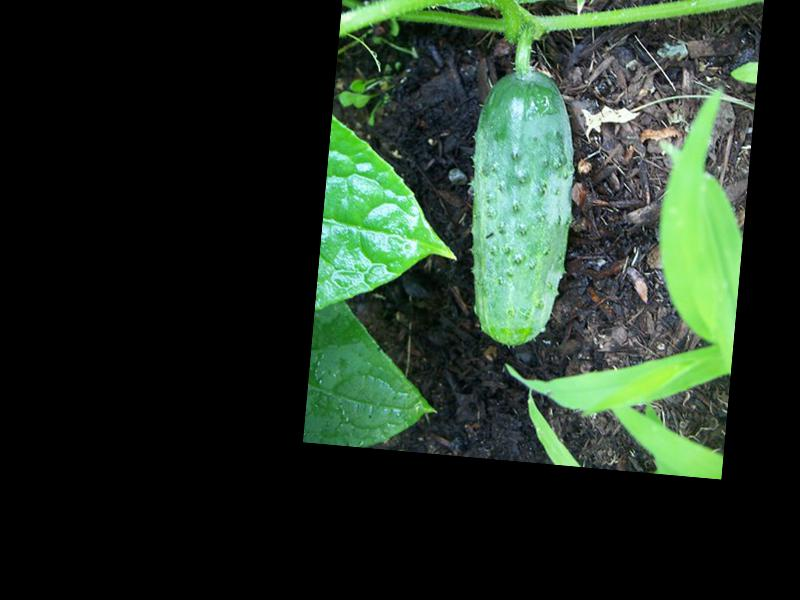Cucumber: (457, 66, 584, 353)
